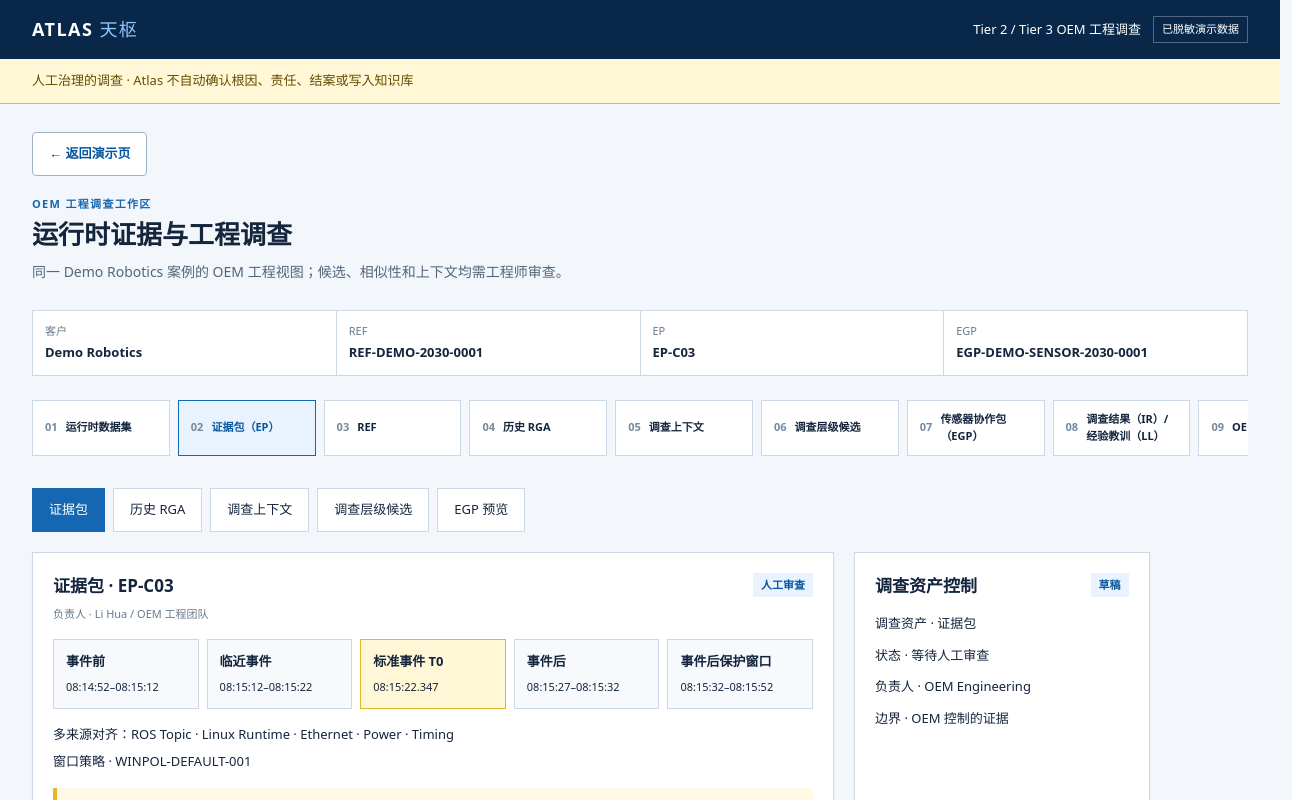
Test: Atlas V3 demo localization › switches localized investigation stages
Click the button "历史 RGA" at (158, 510), box [113, 488, 202, 532]
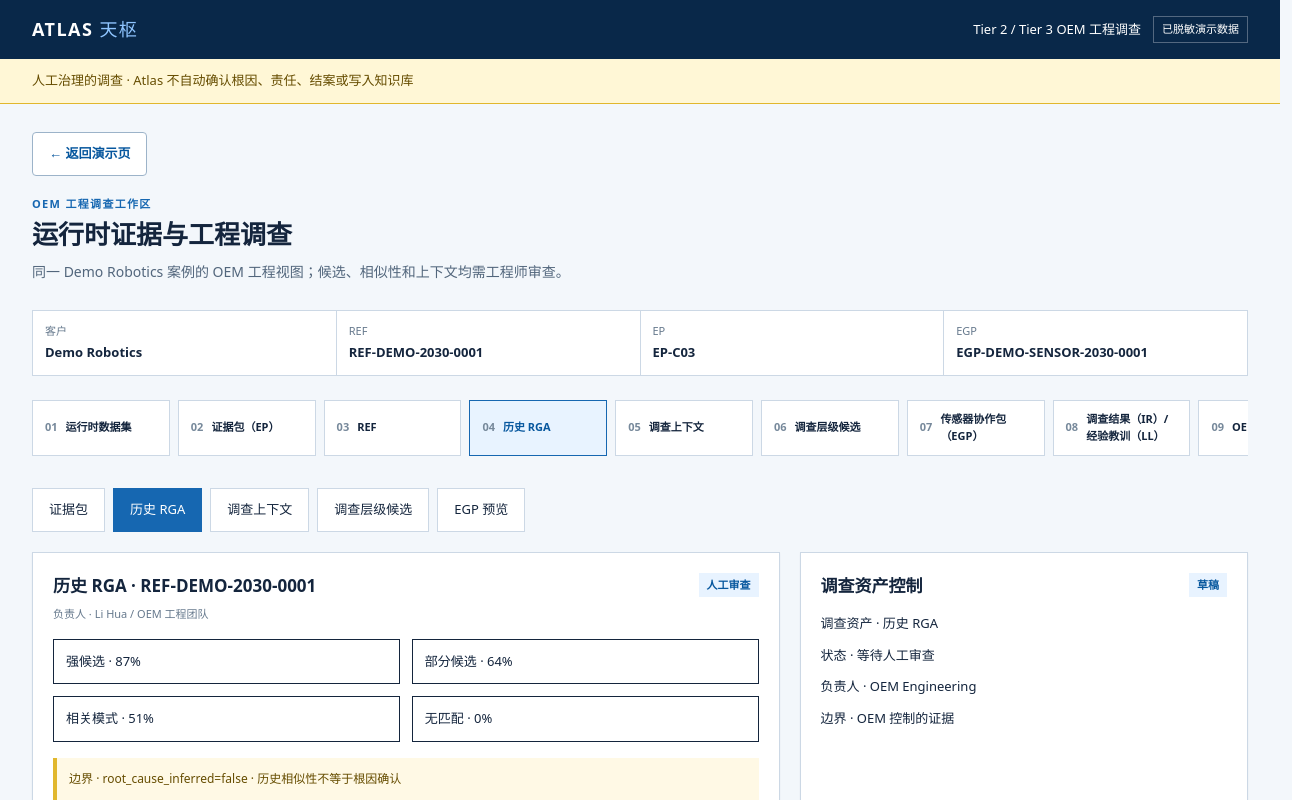
Result: the text "强候选 · 87%" is shown at [53, 639, 400, 684]
